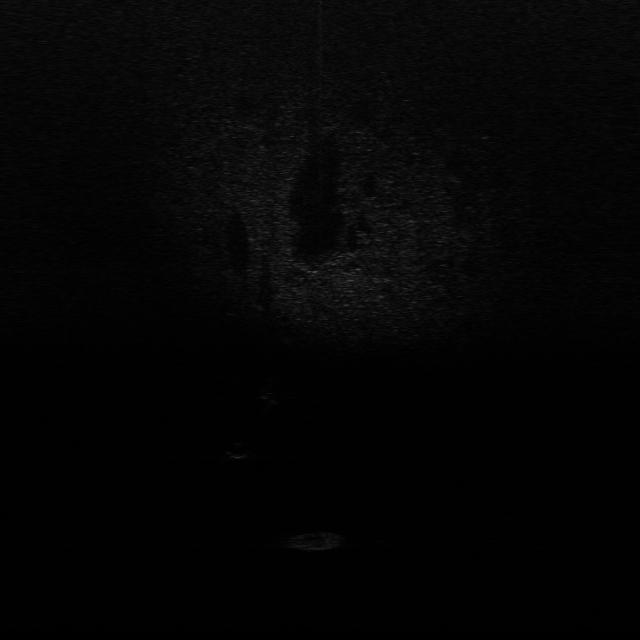ball: (223, 440, 253, 461)
circle cage: (288, 527, 348, 552)
human body: (257, 371, 284, 416)
